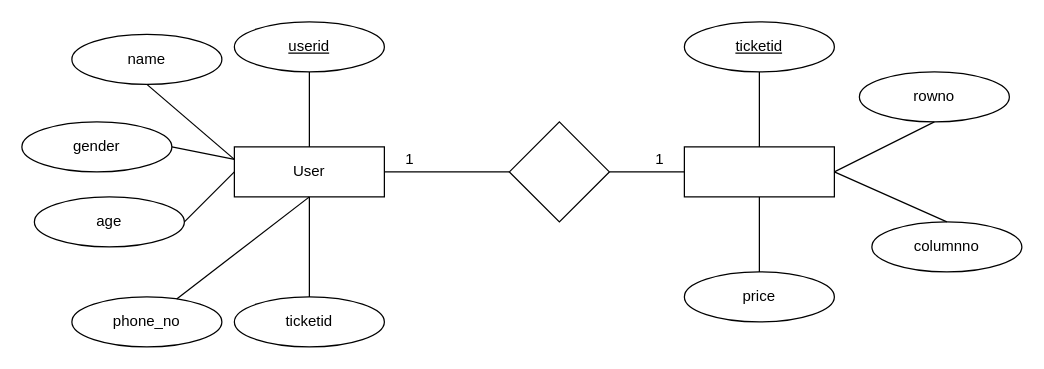
This 1044x369 diagram has some shape labels left out. Here are the shapes that lost their labels. From the top down, the centre of each, then its label:
pixel 558 171: Buys
pixel 758 171: Tickets
